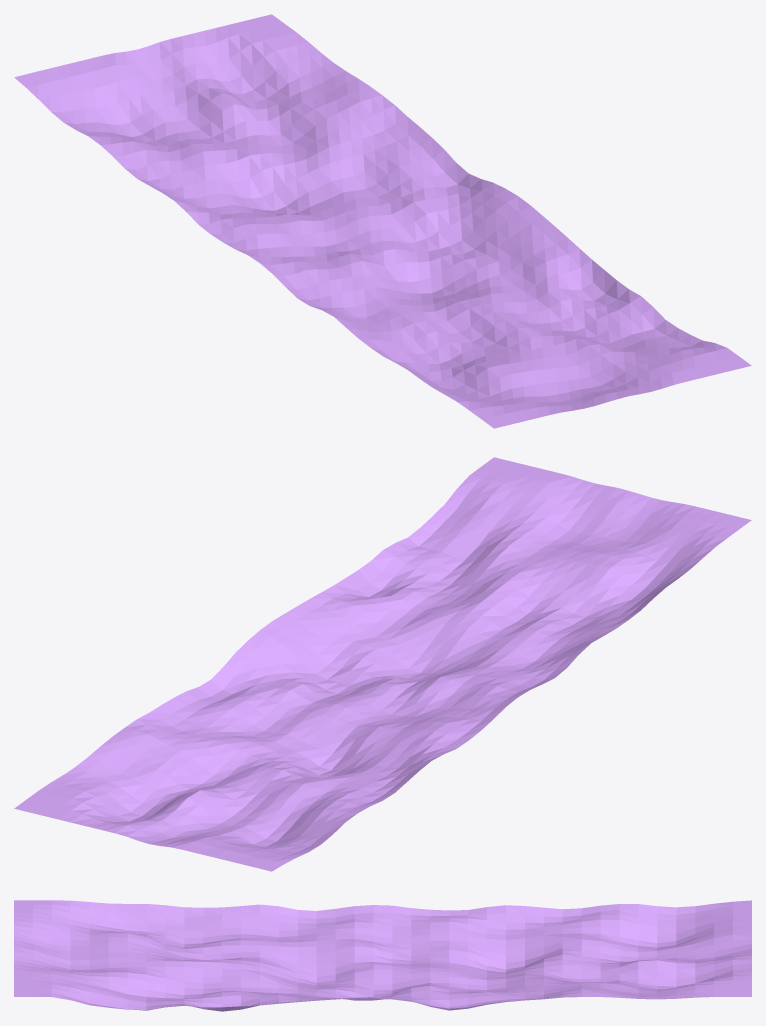
File: terrain_e.dae
The picture shows the model from 3 angles, top to bottom: view 1: azimuth 30°, elevation 25°; view 2: azimuth 150°, elevation 25°; view 3: azimuth 270°, elevation 25°; orthographic projection. The views are drawn at different scales.
Visible parts, largest first — view 1: group_5_001; view 2: group_5_001; view 3: group_5_001.
Part boxes in pixels (x1,y1,x2,y2): group_5_001: (14, 14, 751, 428); group_5_001: (14, 457, 751, 871); group_5_001: (14, 900, 751, 1011).
Bounding box in the file's own units: 137 × 442 × 21.15.
